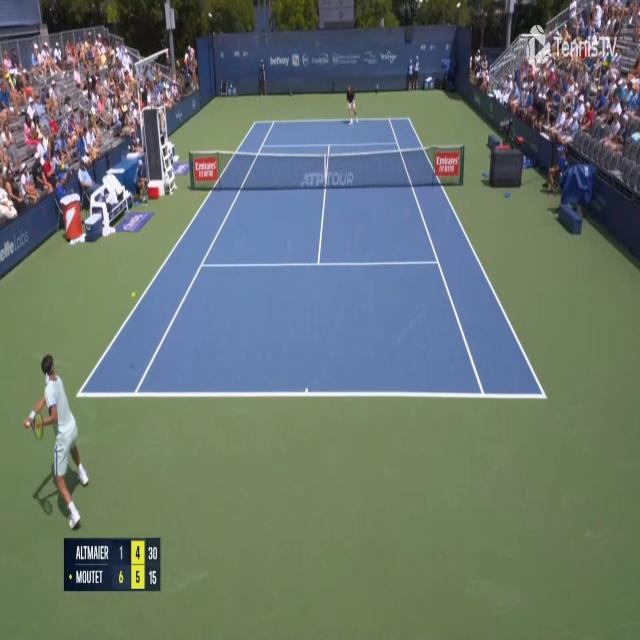tennis-player: (24, 347, 93, 532), (345, 83, 358, 126)
